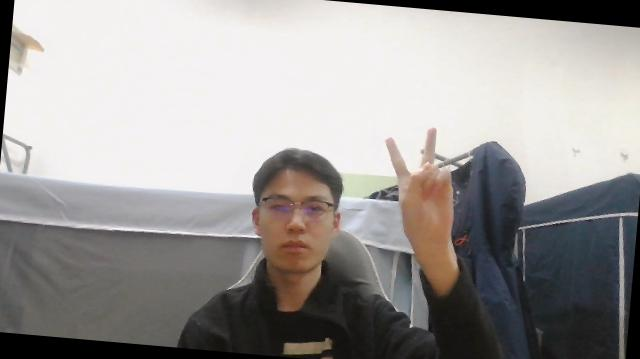two: (374, 122, 466, 238)
